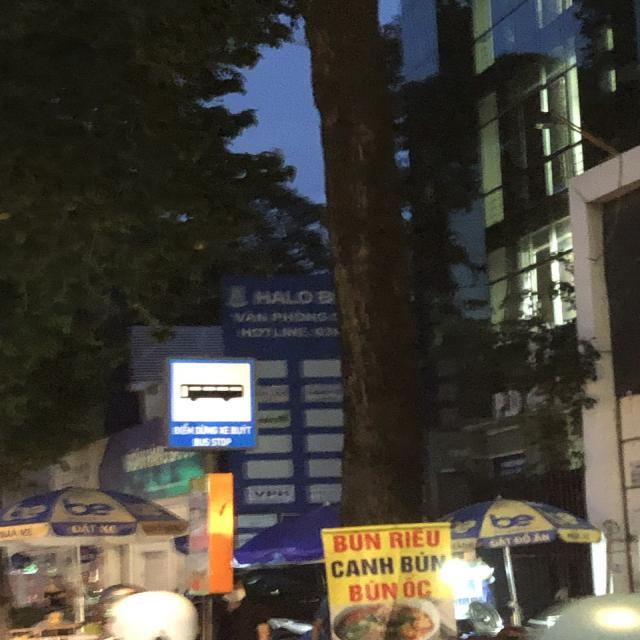Bien bao ben xe bus: (158, 350, 274, 454)
